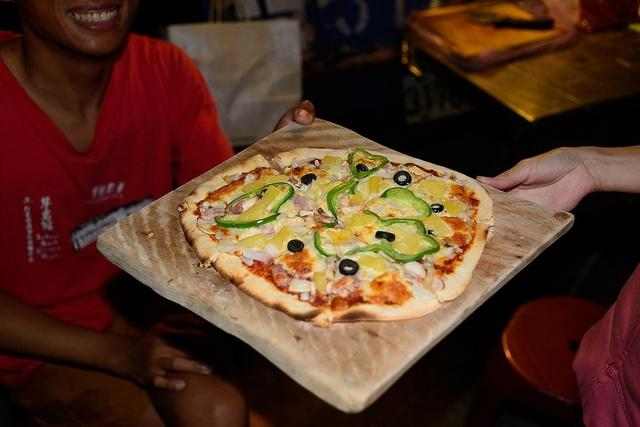bell pepper: (344, 209, 439, 262), (214, 182, 294, 228), (322, 177, 358, 229), (379, 187, 432, 217), (348, 148, 390, 178), (314, 230, 334, 256)
